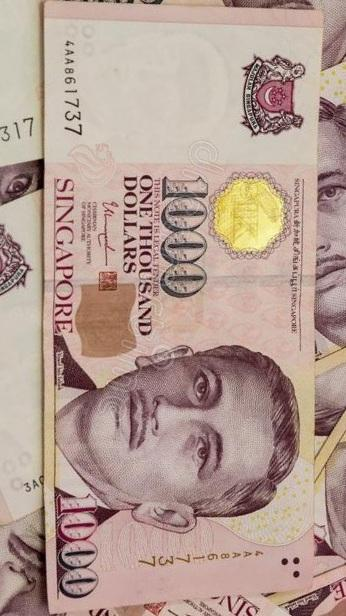1000SingaporeDollar: (47, 10, 314, 596)
